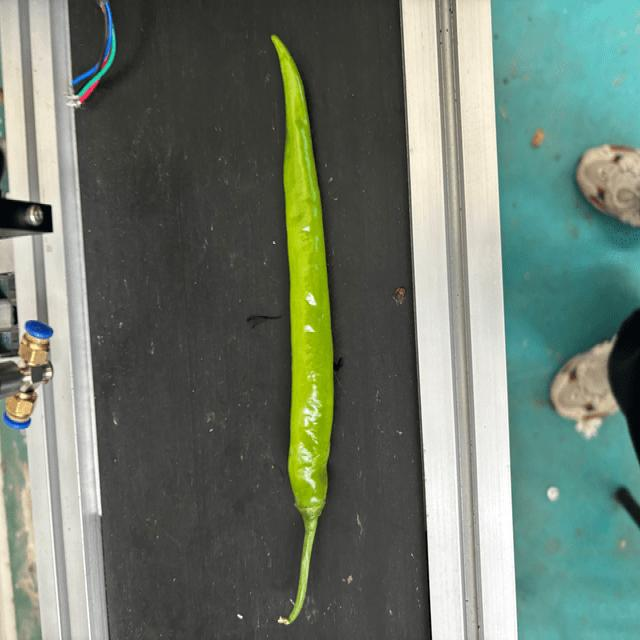chili: (270, 31, 336, 527)
